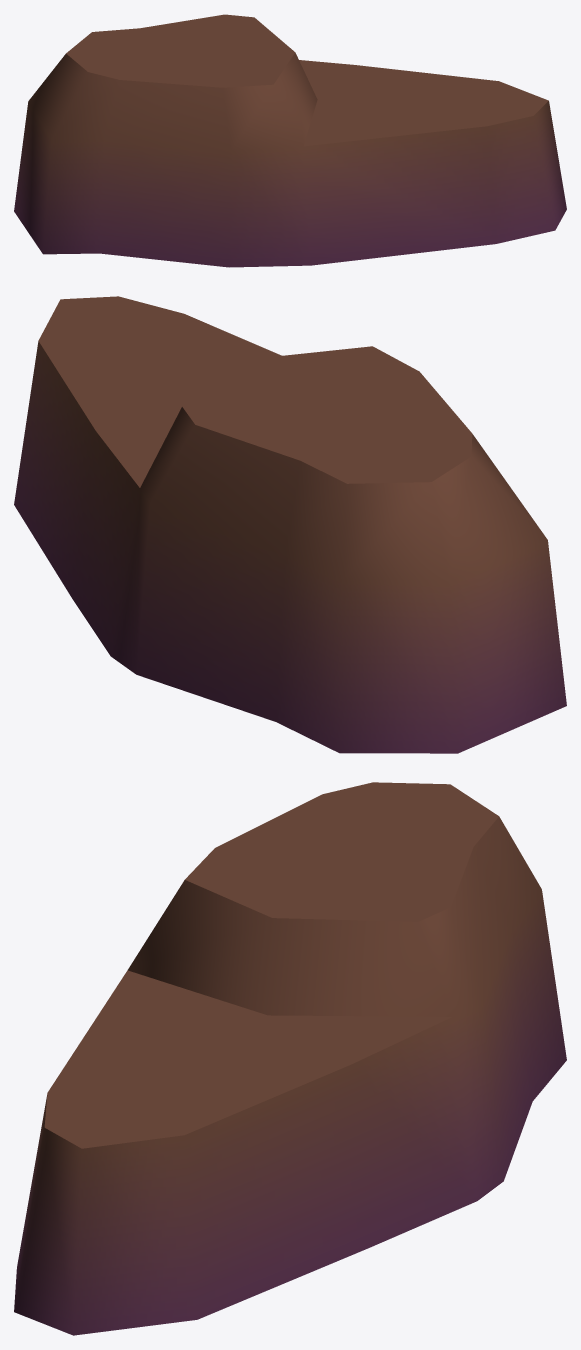
The picture shows the model from 3 angles, top to bottom: view 1: azimuth 30°, elevation 25°; view 2: azimuth 150°, elevation 25°; view 3: azimuth 270°, elevation 25°; orthographic projection. The views are drawn at different scales.
Parts seen in each view (by area): view 1: Cube.086; view 2: Cube.086; view 3: Cube.086.
Part boxes in pixels (left/top/right/bottom): Cube.086: left=14, top=14, right=566, bottom=267; Cube.086: left=14, top=296, right=566, bottom=753; Cube.086: left=14, top=782, right=566, bottom=1335.
Size of the model in its own units: 19.47 by 6.87 by 13.42.
